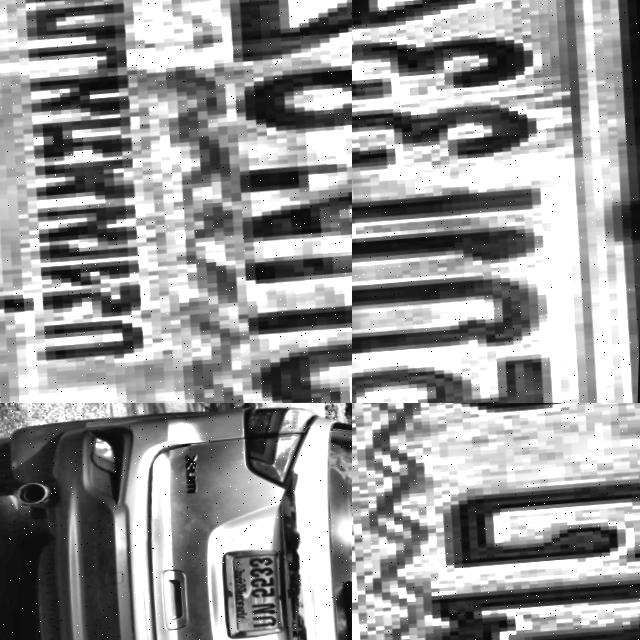license-plate: (0, 0, 352, 403), (352, 0, 640, 403), (352, 403, 640, 640), (220, 544, 291, 638)
